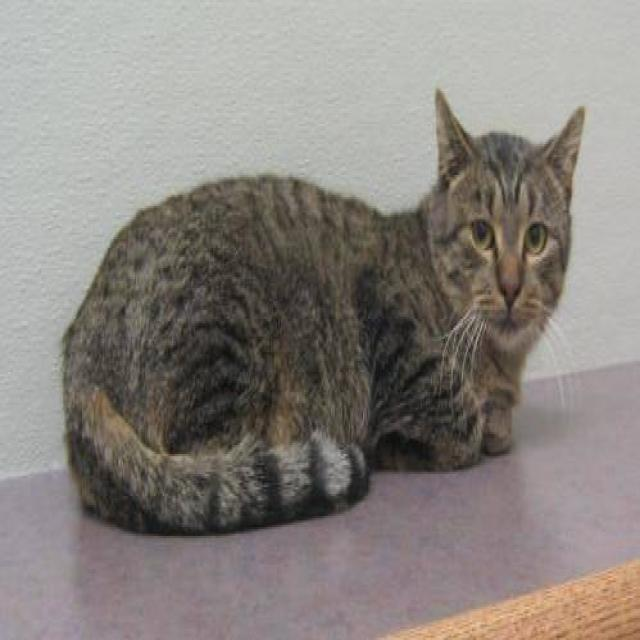cat: (59, 86, 585, 536)
